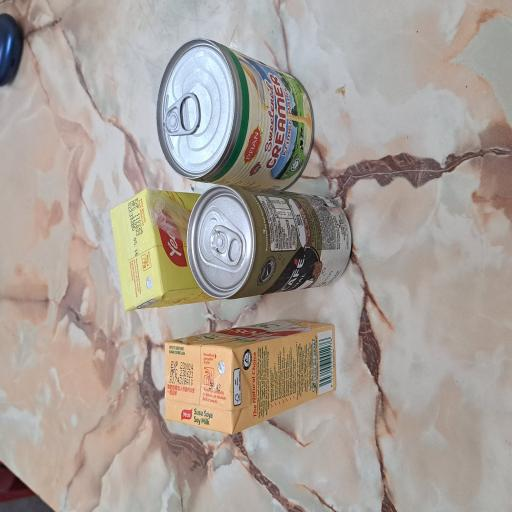can: (239, 208, 356, 420), (158, 248, 247, 470)
drink carton: (58, 220, 145, 448), (150, 146, 244, 292)
pop tab: (282, 219, 316, 267), (184, 280, 216, 323)
